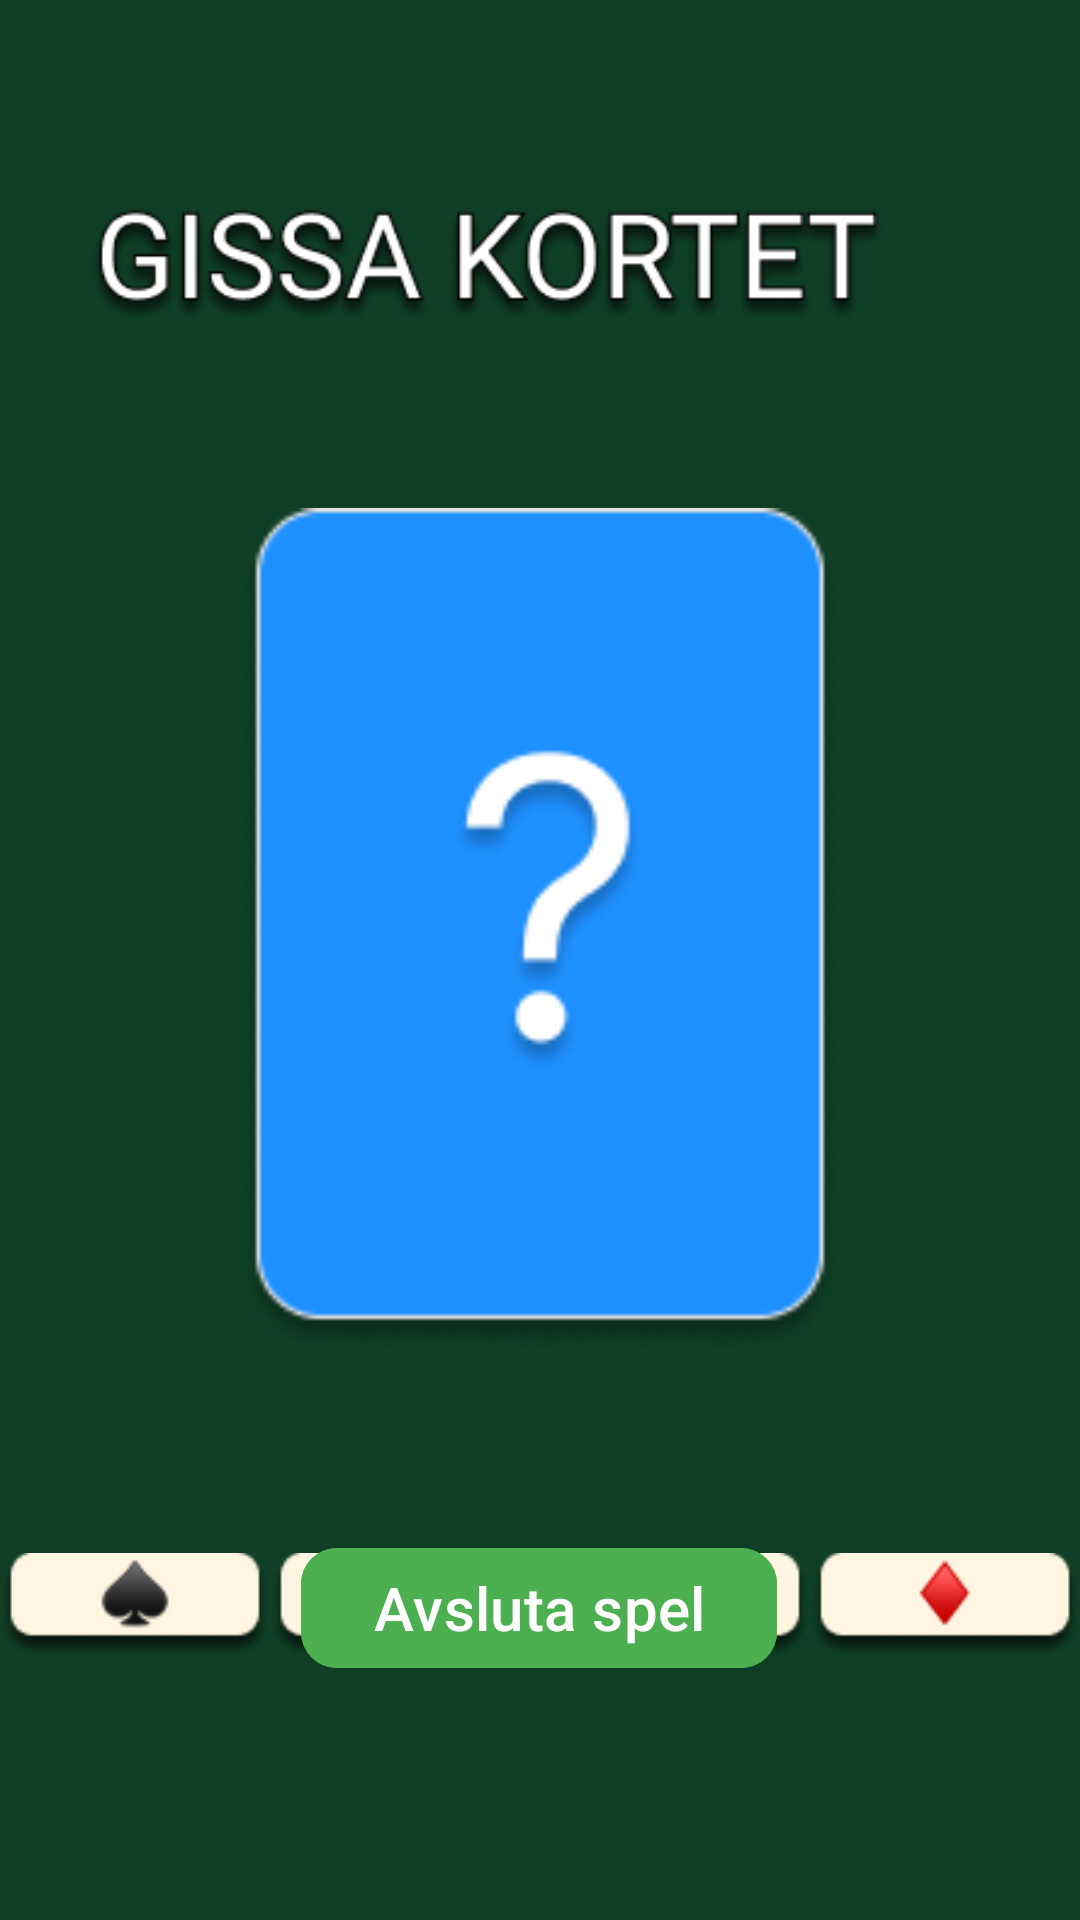

Point at icon controls on the screen. Image size 1080w x 1920h, points as (x,y).
diamond: (945,1599)
spade: (135,1599)
